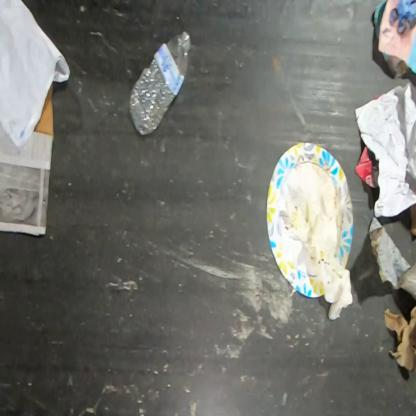cardboard: (265, 142, 354, 298), (384, 305, 415, 372), (34, 82, 54, 139)
rigid_plastic: (129, 31, 191, 135)
